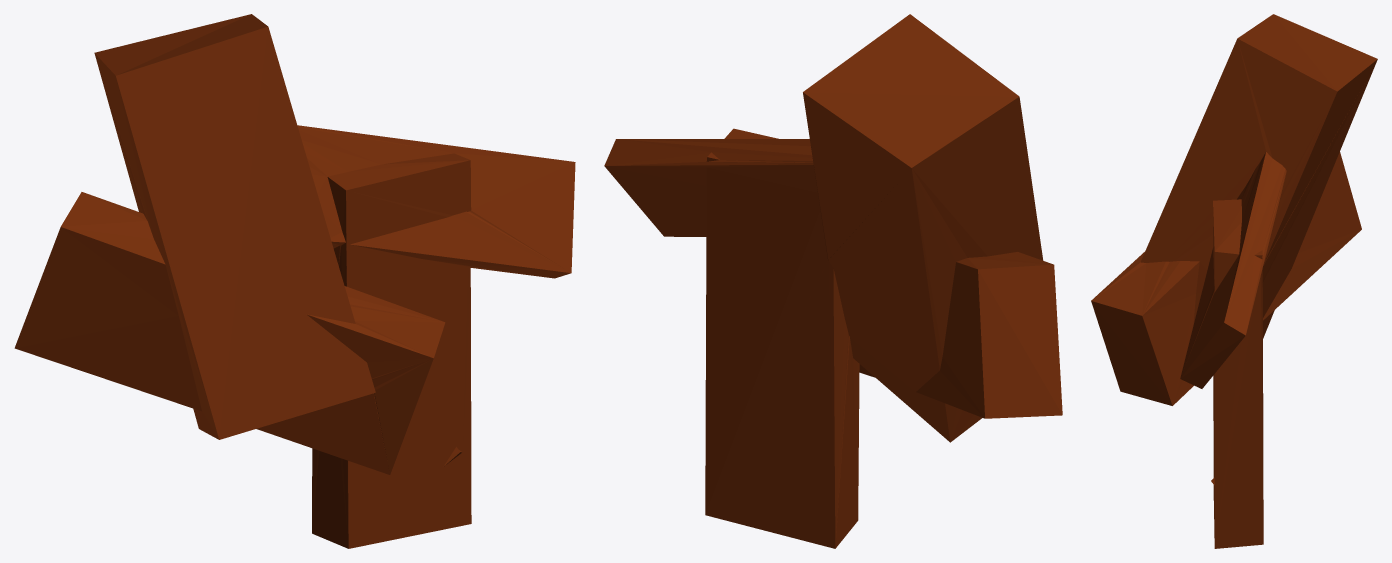
3 views of the same model, side by side, from view 1: azimuth 30°, elevation 25°; view 2: azimuth 150°, elevation 25°; view 3: azimuth 270°, elevation 25° (orthographic). The views are drawn at different scales.
Parts seen in each view (by area): view 1: 450_Cube.1823; view 2: 450_Cube.1823; view 3: 450_Cube.1823.
Part boxes in pixels (x1,y1,x2,y2): 450_Cube.1823: (14,14,575,548); 450_Cube.1823: (604,14,1062,548); 450_Cube.1823: (1091,14,1377,548).
Bounding box in the file's own units: 17.87 × 18.16 × 10.85.
